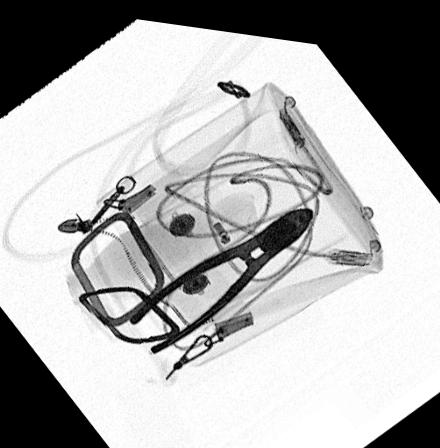Pliers: (126, 197, 315, 354)
